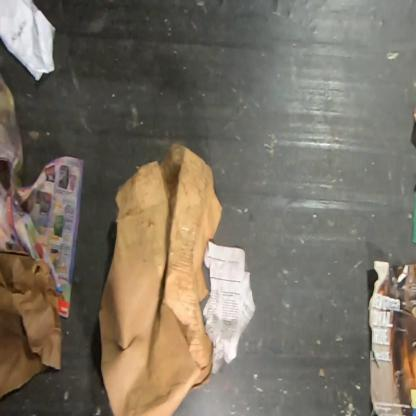cardboard: (97, 141, 224, 415)
